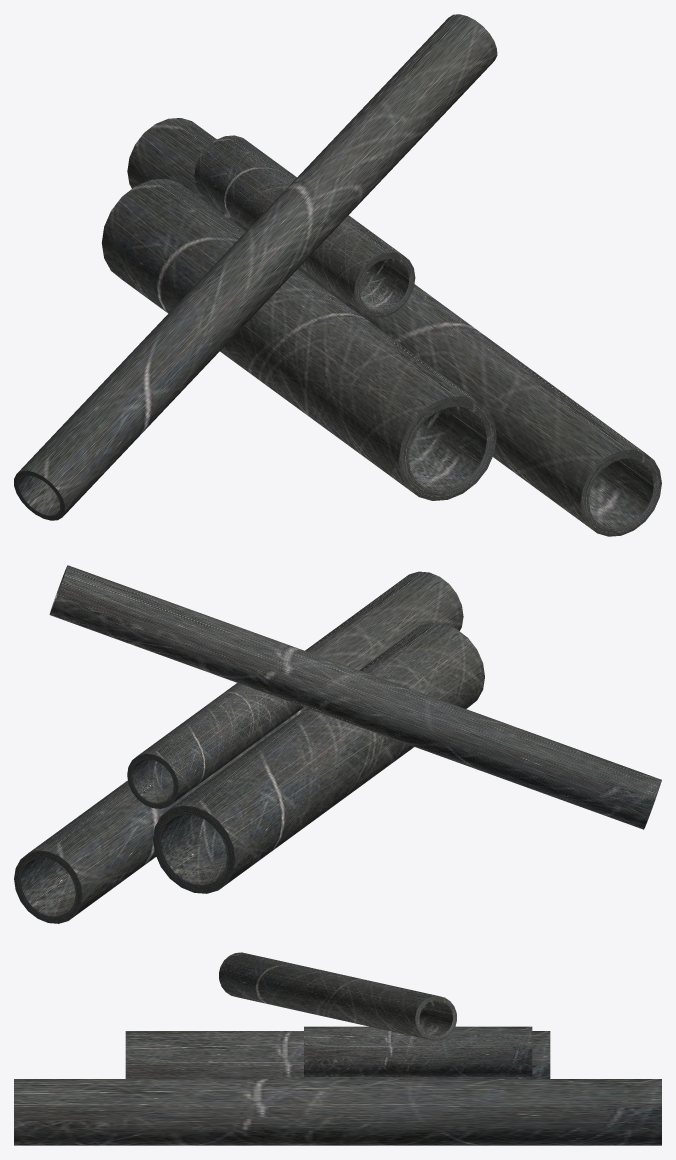
The model's file is res_metall.fbx.
3 views of the same model, one above another, from view 1: azimuth 30°, elevation 25°; view 2: azimuth 150°, elevation 25°; view 3: azimuth 270°, elevation 25° (orthographic). The views are drawn at different scales.
Parts seen in each view (by area): view 1: polySurface1; view 2: polySurface1; view 3: polySurface1.
Boxes of the visible parts, x1,y1,x2,y2 form: polySurface1: (14,14,661,536); polySurface1: (14,565,661,923); polySurface1: (14,952,661,1145).
Size of the model in its own units: 5.52 by 2.41 by 7.27.
